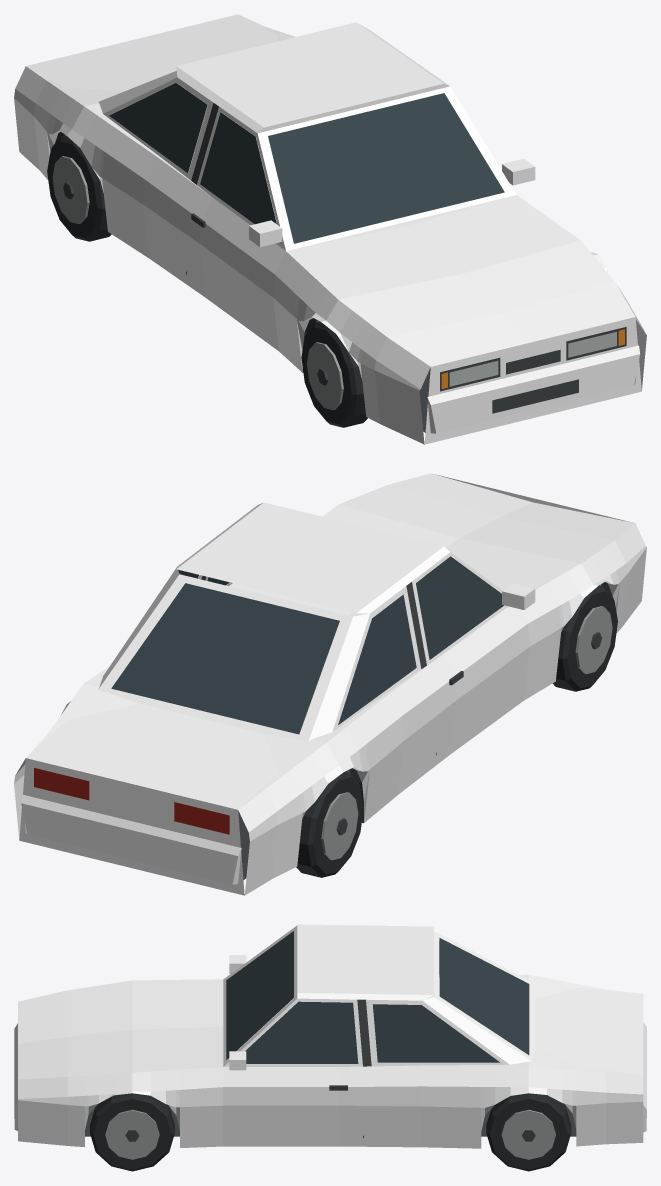
The model's file is hayase_kagura.glb.
The picture shows the model from 3 angles, top to bottom: view 1: azimuth 30°, elevation 25°; view 2: azimuth 150°, elevation 25°; view 3: azimuth 270°, elevation 25°; orthographic projection. The views are drawn at different scales.
Visible parts, largest first — view 1: hayase_kagura; view 2: hayase_kagura; view 3: hayase_kagura.
Part boxes in pixels (x1=…): hayase_kagura: x1=14, y1=14, x2=646, y2=444; hayase_kagura: x1=14, y1=473, x2=646, y2=895; hayase_kagura: x1=14, y1=924, x2=646, y2=1171.
Bounding box in the file's own units: 1.73 × 1.25 × 4.39.
Materials: 8 (1 with a texture image).
